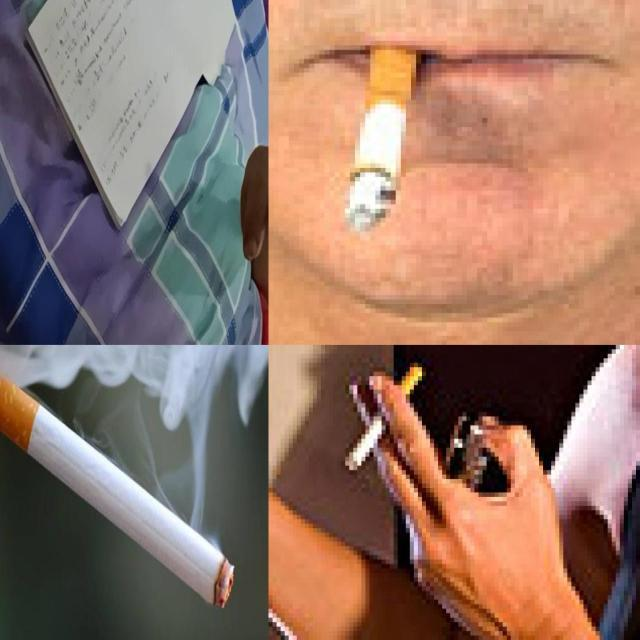smoking: (0, 345, 236, 611), (345, 34, 419, 232), (333, 354, 430, 484)
